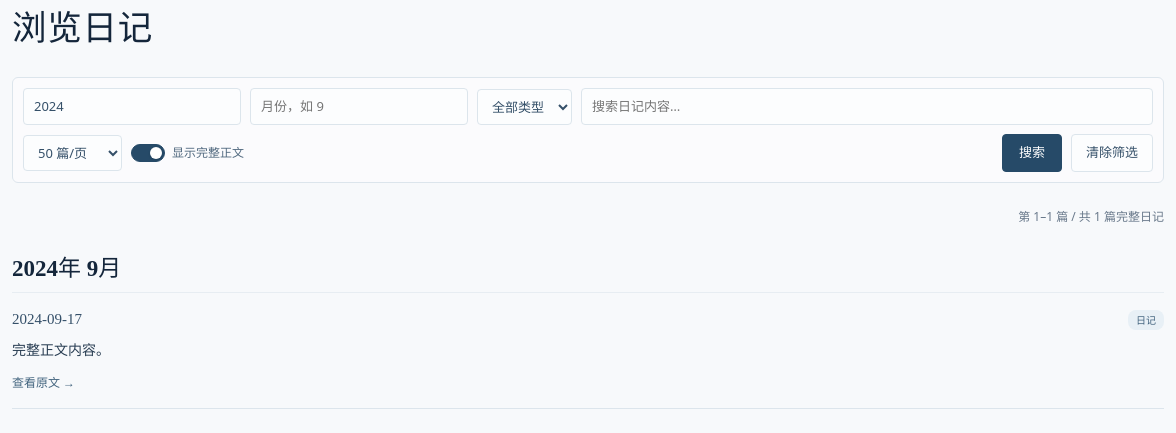
Test: 浏览页分页与筛选 › 清除筛选按钮在完整正文模式下同时关闭开关
expect the text "完整正文内容。" is shown: met, box [12,343,110,358]
What coordinates should you click on to do the following:
click the button "清除筛选"
I would click on:
 (1112, 153)
Its box is [1071,134,1153,172].
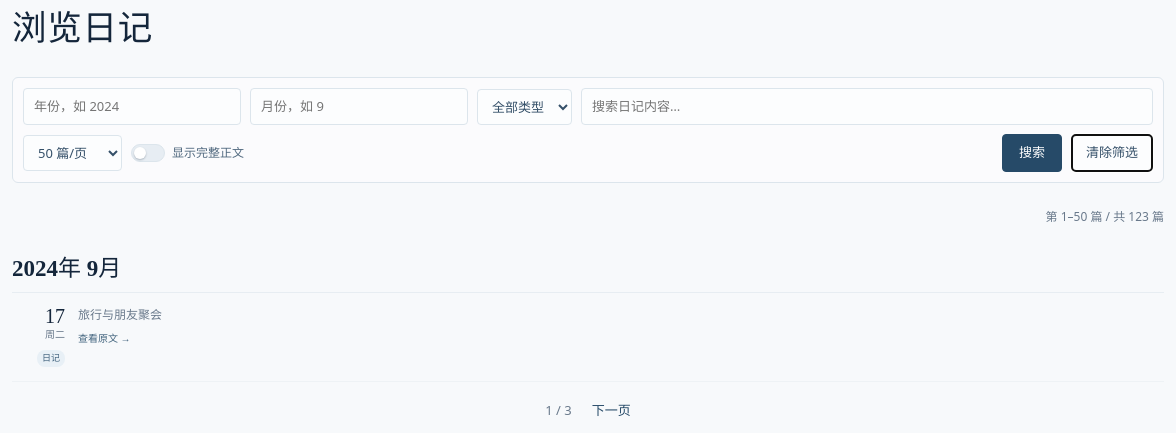
expect the text "旅行与朋友聚会" is shown: met, box [78,306,162,323]
expect the checkbox labelled "显示完整正文" is not checked: met, box [131,143,244,163]
